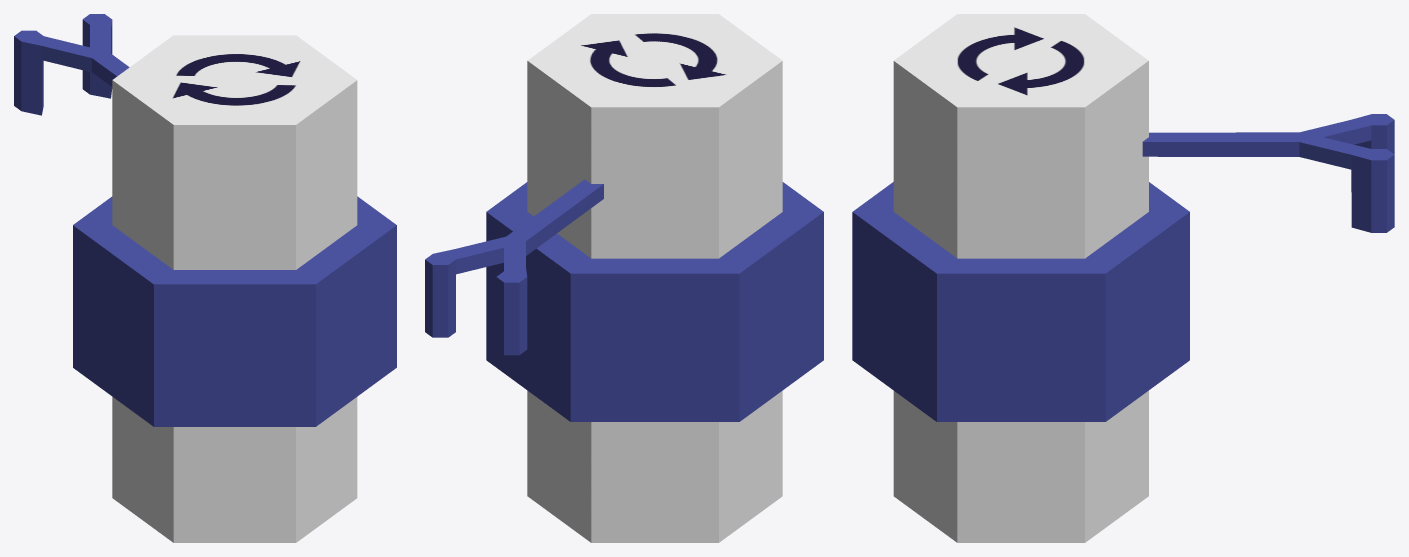
File: rotator.fbx
3 views of the same model, side by side, from view 1: azimuth 30°, elevation 25°; view 2: azimuth 150°, elevation 25°; view 3: azimuth 270°, elevation 25° (orthographic). The views are drawn at different scales.
Parts seen in each view (by area): view 1: button, rotator, handle; view 2: button, rotator, handle; view 3: button, rotator, handle.
Part boxes in pixels (x1,y1,x2,y2): button: (112,35,357,542); rotator: (73,196,396,426); handle: (14,14,129,115); button: (527,14,782,542); rotator: (486,182,823,421); handle: (425,179,603,355); button: (893,14,1148,542); rotator: (852,182,1189,421); handle: (1142,114,1394,232).
Size of the model in its own units: 71.01 by 117 by 132.
